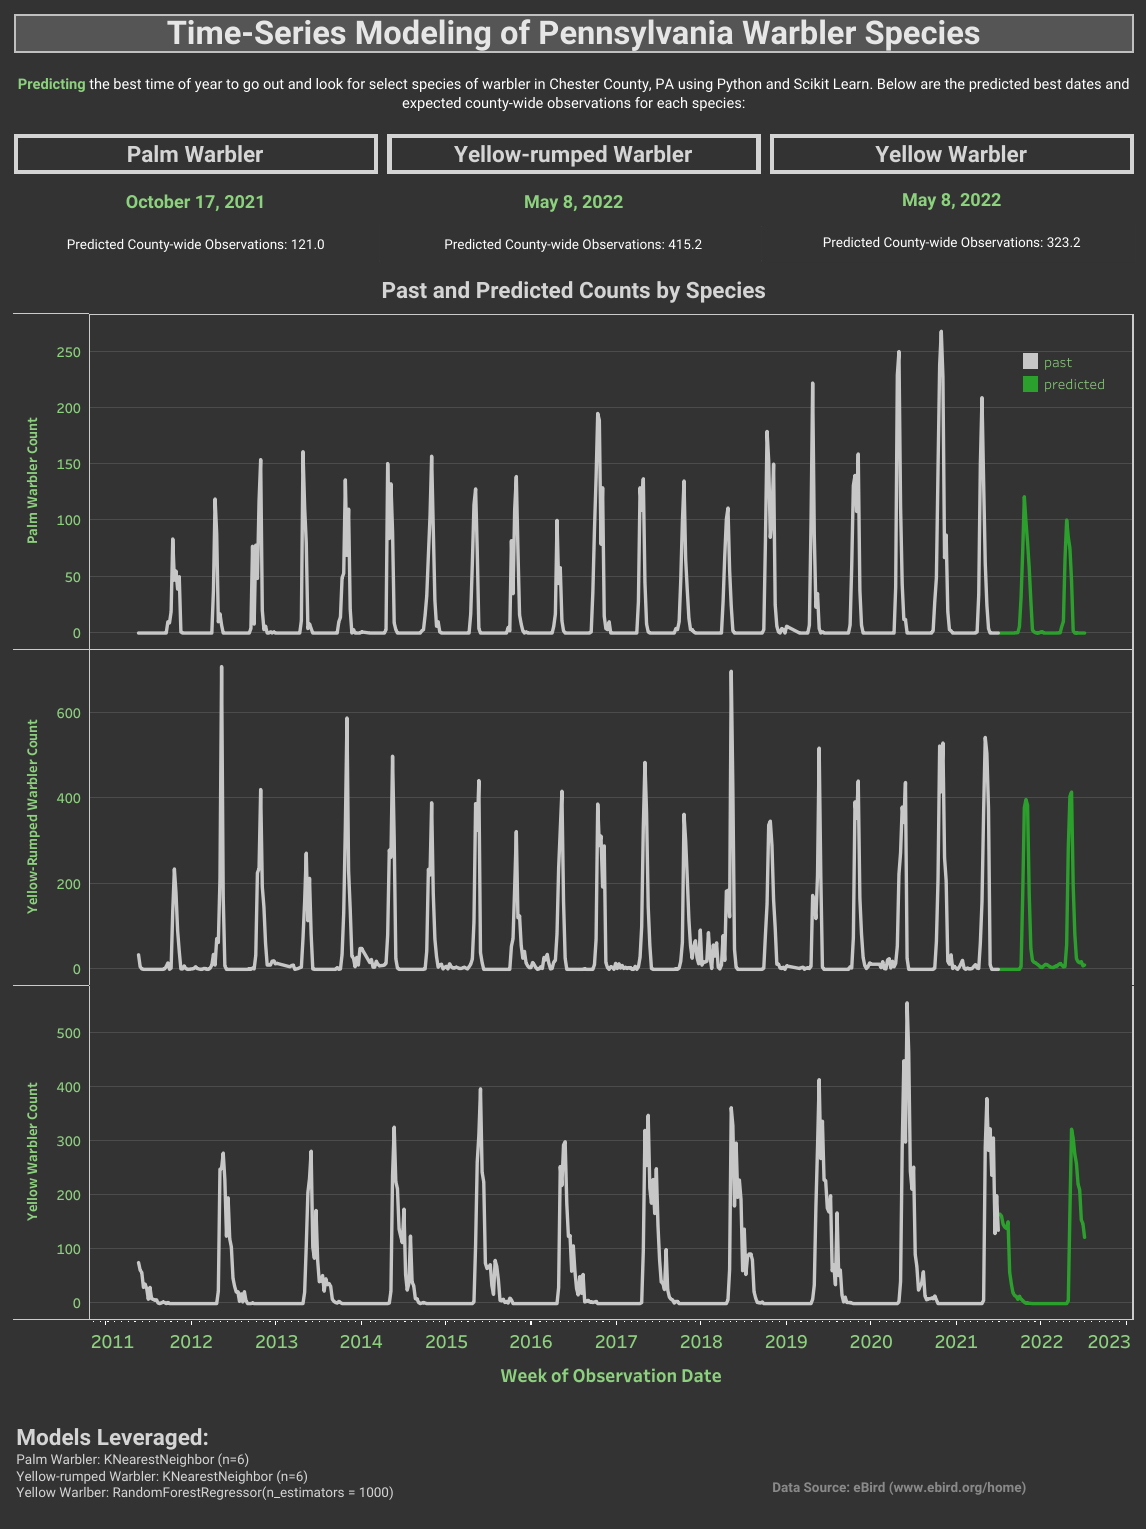

The dashboard page shown, as its layout file describes it:
{"tool":"tableau","page":{"name":"Warbler_Time_Series","canvas":[1020,1360],"ordinal":0},"visuals":[{"type":"title","box":[8,8,1004,58]},{"type":"text","box":[8,66,1004,63.1]},{"type":"worksheet","title":"palm predicted best","mark":"Automatic","cols":["Calculation_1186980044175454209","Calculation_1186980044175454209"],"box":[8,129.1,332,119.6]},{"type":"worksheet","title":"yellow-rumped predicted best","mark":"Automatic","cols":["Calculation_1186980044186685448","Calculation_1186980044186685448"],"box":[340,129.1,340,119.6]},{"type":"worksheet","title":"yellow predicted best","mark":"Automatic","cols":["Calculation_1186980044182560774"],"box":[680,129.1,332,119.6]},{"type":"worksheet","title":"Sheet 1","mark":"Automatic","rows":["observation_count","observation_count","observation_count"],"cols":["observation_date"],"box":[8,248.7,1004,999]},{"type":"legend","title":"Sheet 1","param":"[federated.02p2soh1emzobo1361ug90lsivgo].[none:status:nk]","box":[906,311,112,118]},{"type":"text","box":[8,1247.7,672,104.3]},{"type":"text","box":[680,1247.7,332,104.3]}]}

Visuals, with their boxes in screenshot pixels (x1, y1, x2, y2), scaled from the page's 1020x1360 canvas onto the 1146x1529 screenshot:
title: bbox=[9, 9, 1137, 74]
text: bbox=[9, 74, 1137, 145]
"palm predicted best" worksheet: bbox=[9, 145, 382, 280]
"yellow-rumped predicted best" worksheet: bbox=[382, 145, 764, 280]
"yellow predicted best" worksheet: bbox=[764, 145, 1137, 280]
"Sheet 1" worksheet: bbox=[9, 280, 1137, 1403]
"Sheet 1" legend: bbox=[1018, 350, 1144, 482]
text: bbox=[9, 1403, 764, 1520]
text: bbox=[764, 1403, 1137, 1520]
